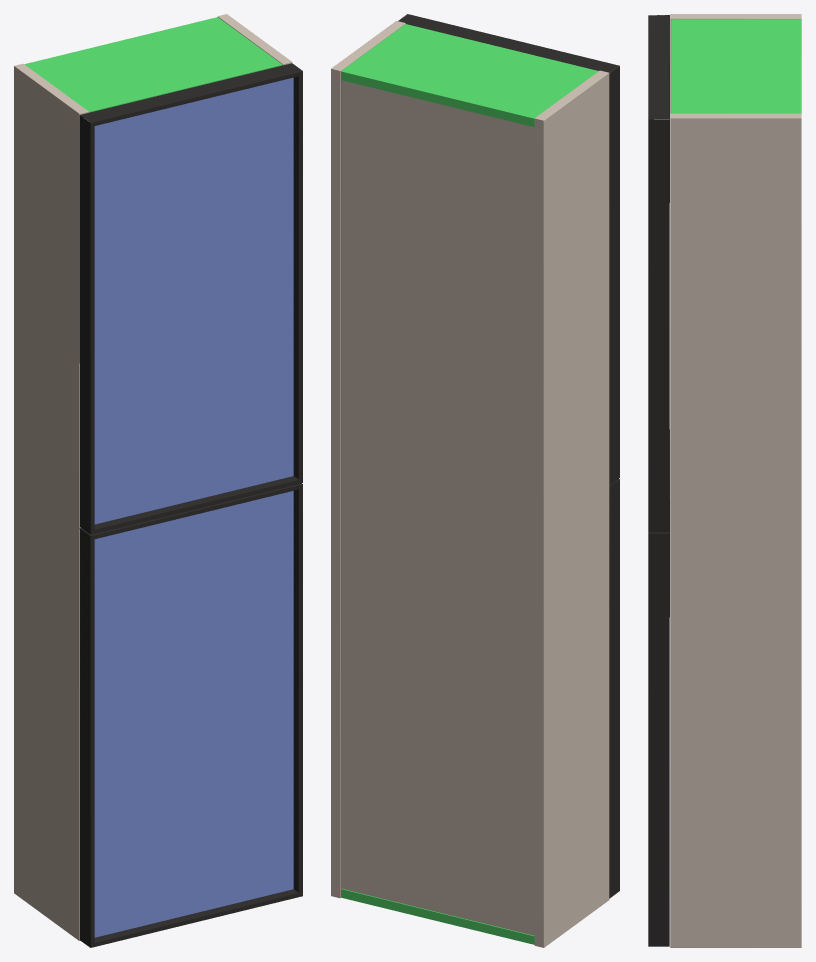
The picture shows the model from 3 angles, left to right: view 1: azimuth 30°, elevation 25°; view 2: azimuth 150°, elevation 25°; view 3: azimuth 270°, elevation 25°; orthographic projection.
Visible parts, largest first — view 1: AT11; view 2: AT11; view 3: AT11.
Part boxes in pixels (x1=…): AT11: x1=14, y1=14, x2=302, y2=947; AT11: x1=331, y1=14, x2=619, y2=947; AT11: x1=648, y1=14, x2=801, y2=947.
Size of the model in its own units: 0.404 by 1.5 by 0.251.
Materials: 4 (1 with a texture image).
